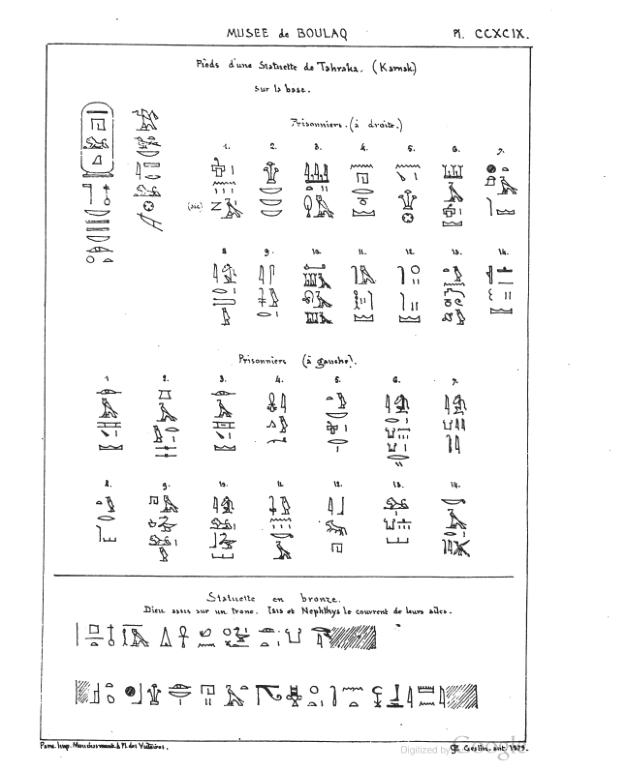circle: (80, 98, 116, 183)
